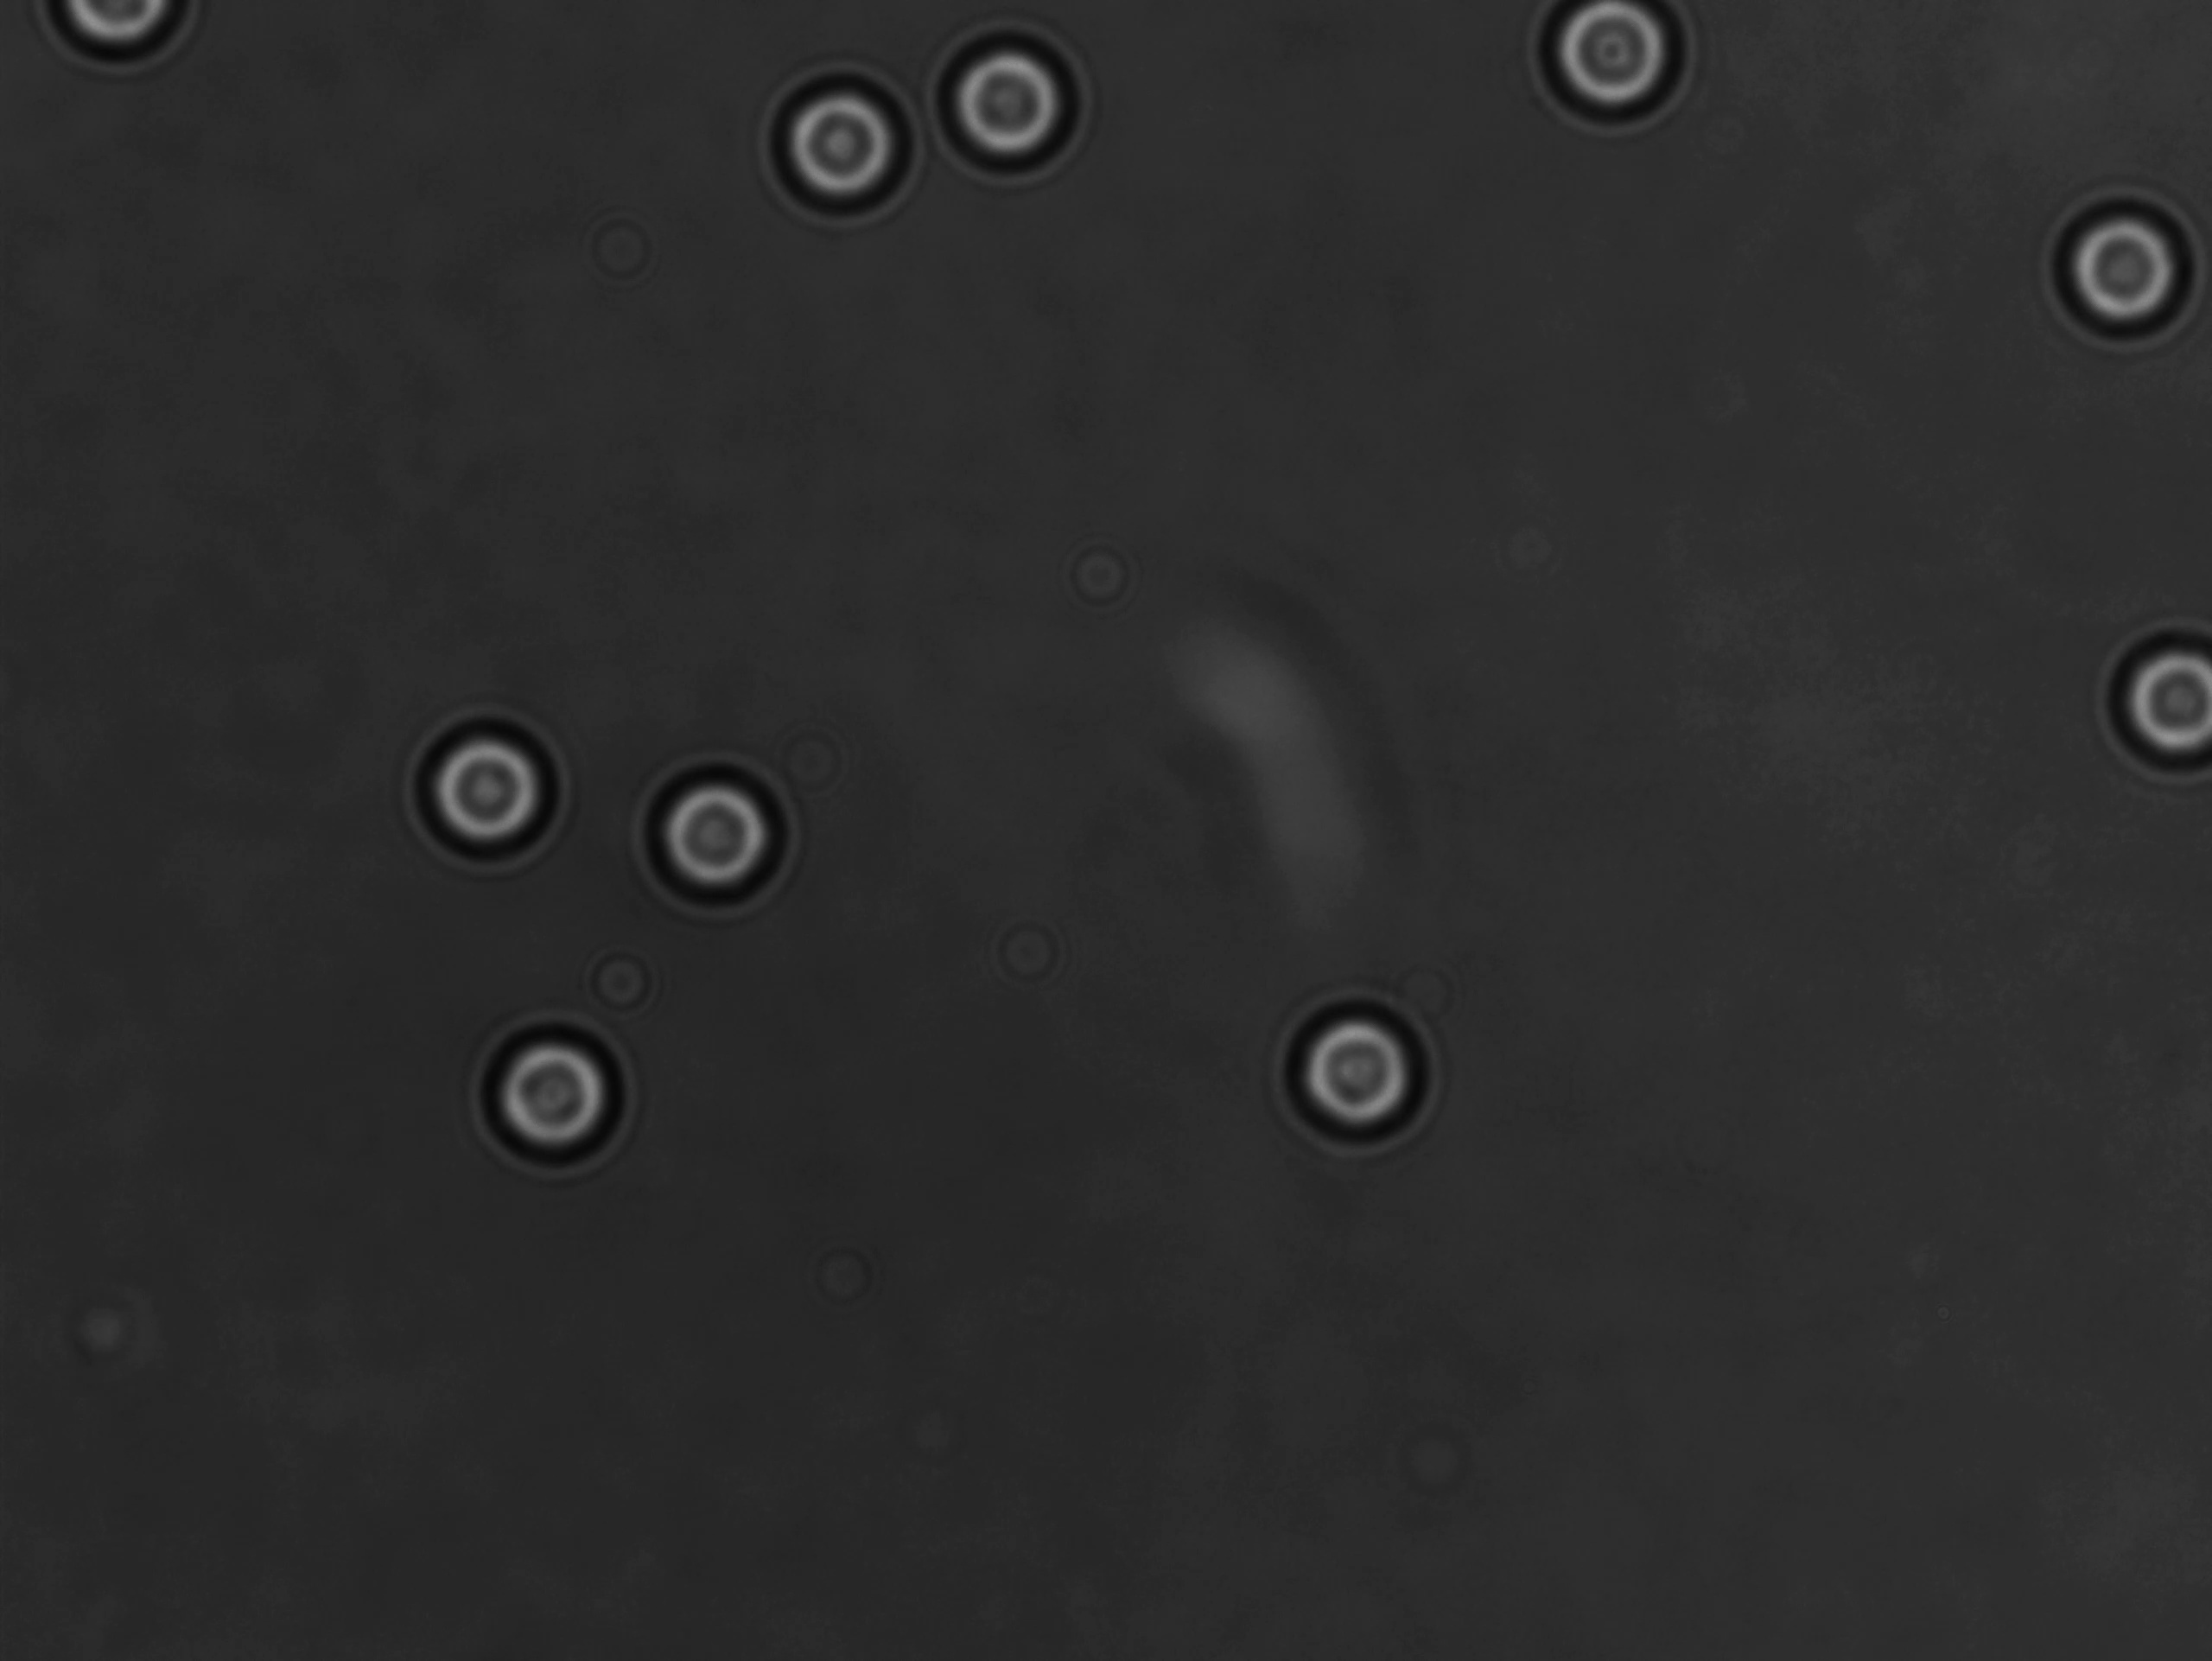depth:20: (398, 696, 569, 871), (2043, 183, 2212, 356), (632, 750, 801, 923), (925, 14, 1089, 183), (473, 1017, 635, 1169), (759, 72, 919, 223), (1280, 995, 1441, 1145), (2090, 616, 2212, 782)
